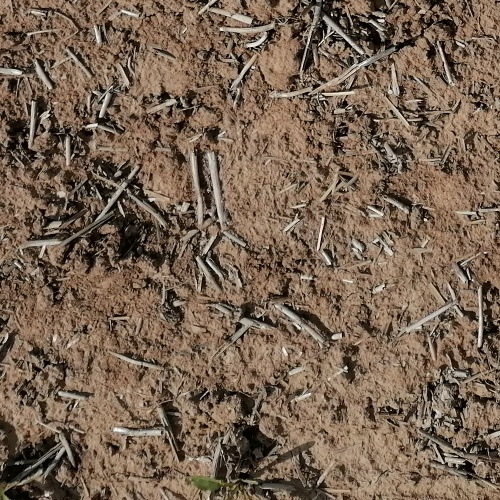beet: (189, 476, 262, 500)
